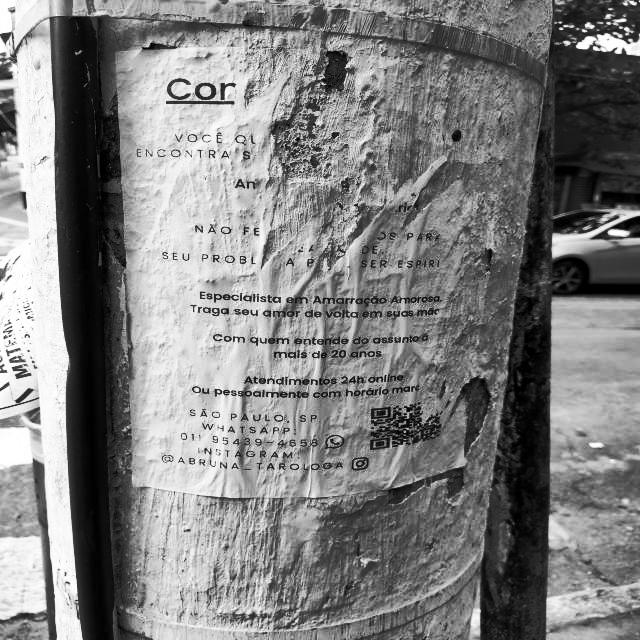qr_code: (371, 402, 441, 450)
